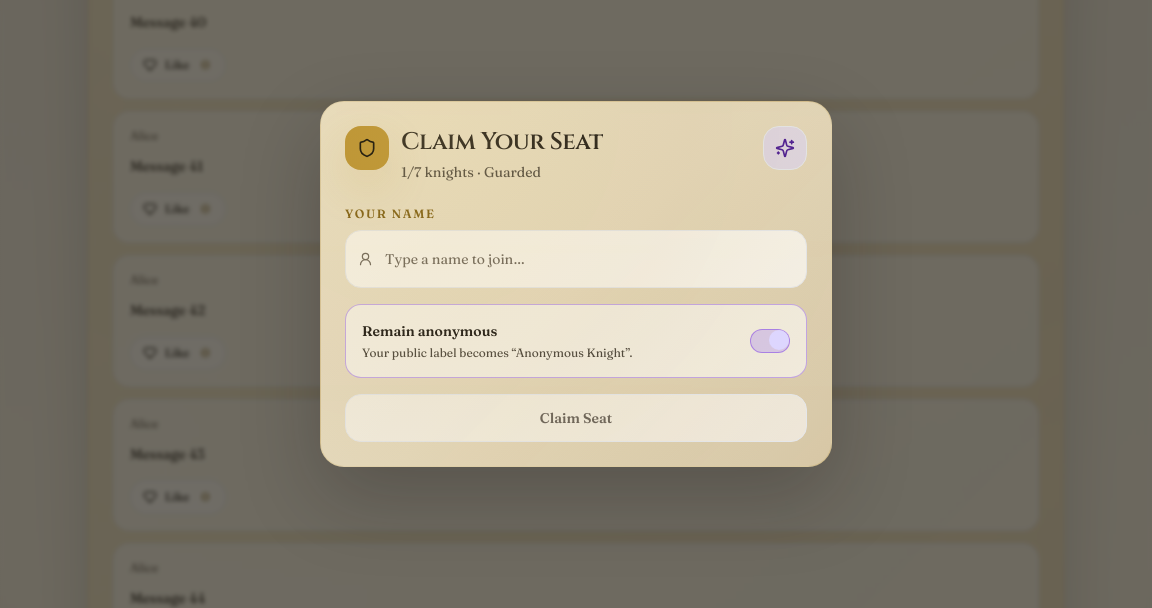
Test case: room folds long message list and can reveal older messages
The width and height of the screenshot is (1152, 608).
(page scrolled)
Expected: the heading "Claim Your Seat" is shown, [401,126,603,158]
Type "Alice" into the field labelled "YOUR NAME" at (590, 259), box [385,239,794,279]
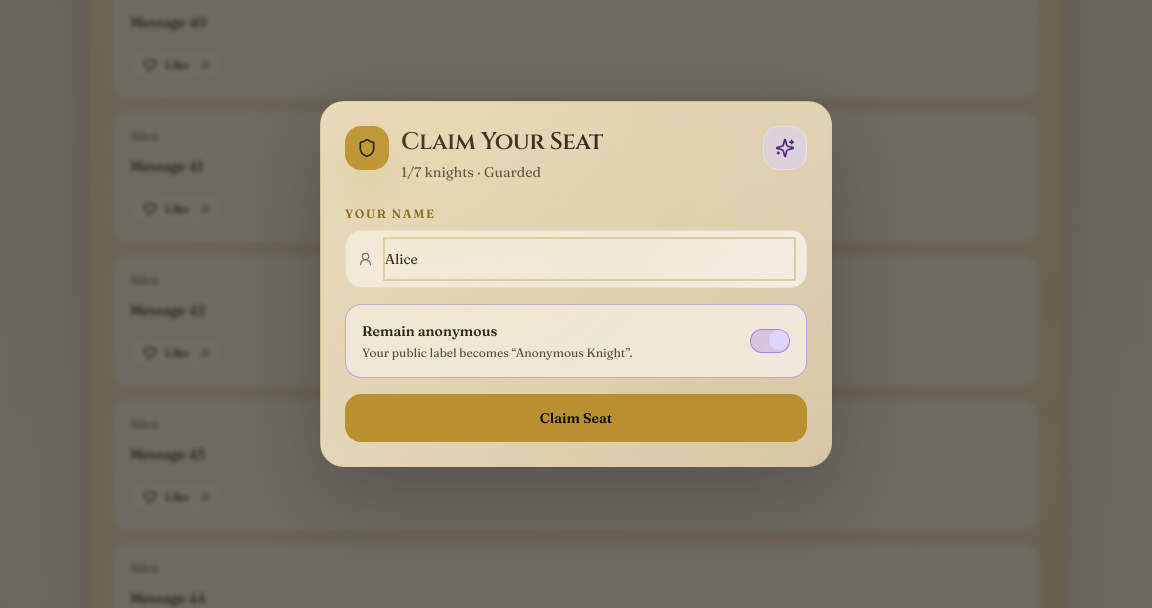
Click the button "Claim Seat" at (576, 418), box [345,394,807,442]
(page scrolled)
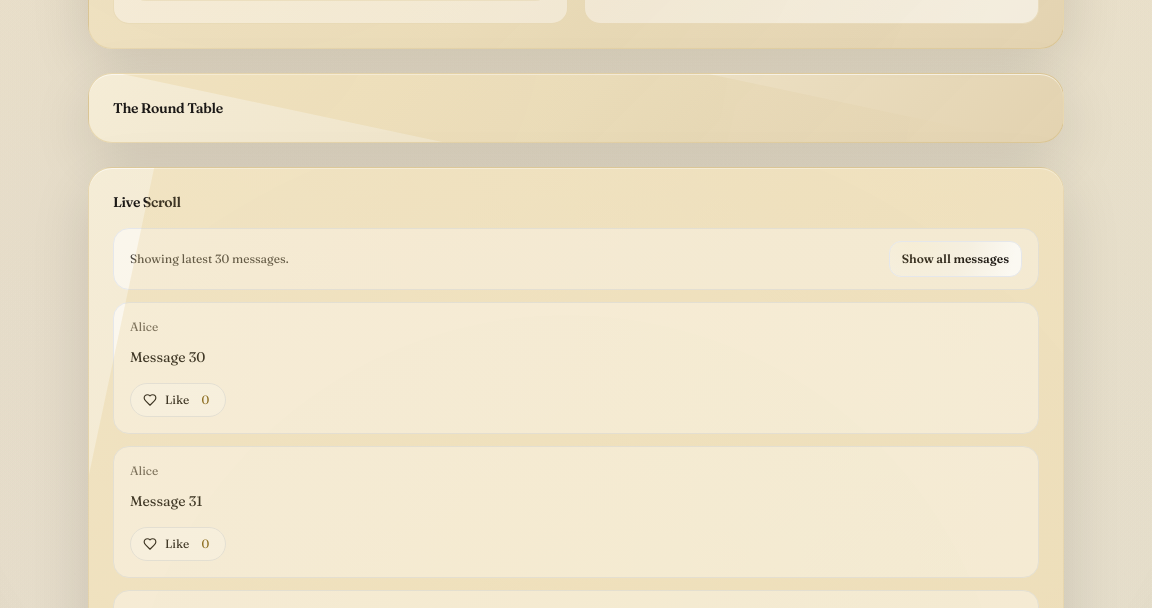
Expected: the text "Showing latest 30 messages." is shown, [130,251,289,267]
Expected: the text "message 0" is not shown
Click the button "Show all messages" at (955, 259), box [889,241,1022,277]
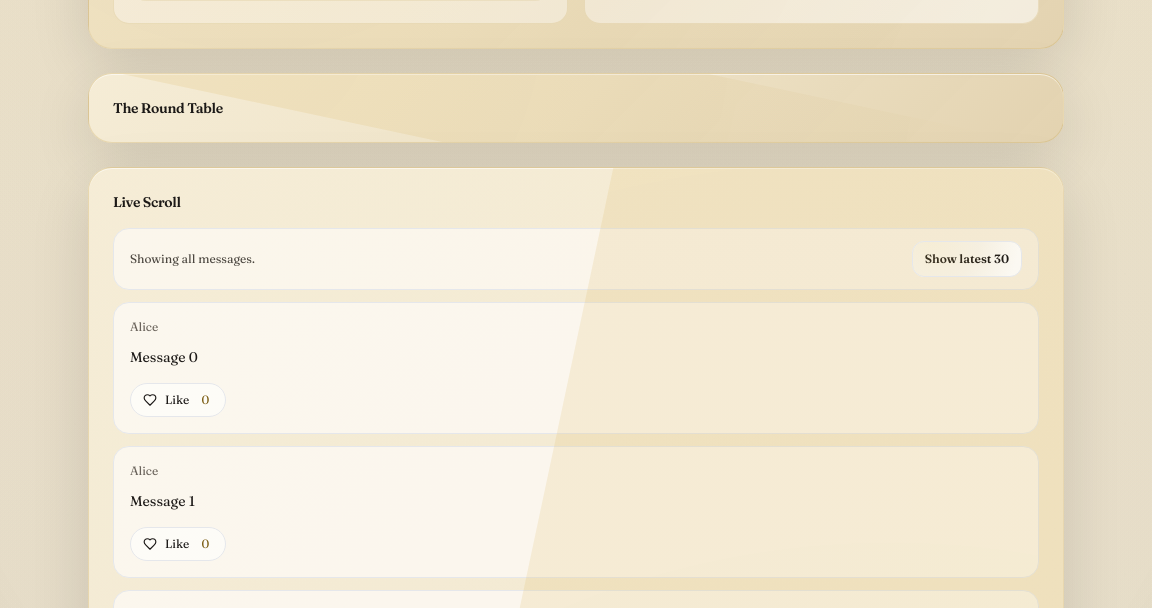
Expected: the text "Message 0" is shown, [130,348,198,366]
